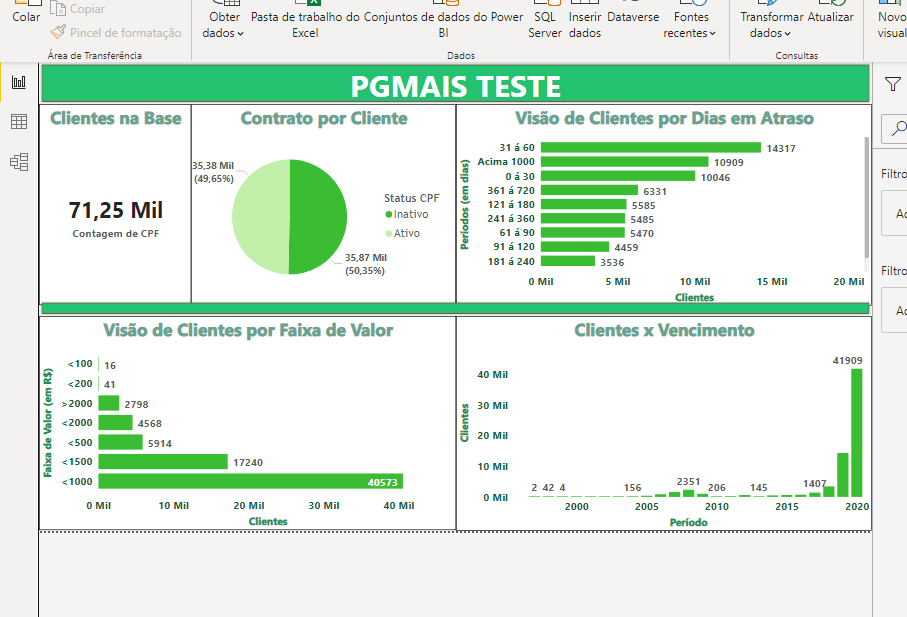

Layout of this report page (visuals, bound fields, positions):
{"tool":"powerbi","page":{"name":"Dash PGMAIS","canvas":[1280,720],"ordinal":0},"visuals":[{"type":"pieChart","title":"Contrato por Cliente","fields":{"Category":["VW_Cobranca.Status Cliente"],"Y":["VW_Cobranca.Contrato"]},"box":[233.8,65.1,406.9,309.3],"z":0},{"type":"clusteredColumnChart","title":"Clientes x Vencimento","fields":{"Category":["VW_Cobranca.Data de Vencimento.Variation.Hierarquia de datas.Ano","VW_Cobranca.Data de Vencimento.Variation.Hierarquia de datas.Trimestre","VW_Cobranca.Data de Vencimento.Variation.Hierarquia de datas.Mês","VW_Cobranca.Data de Vencimento.Variation.Hierarquia de datas.Dia"],"Y":["VW_Cobranca.CPF"]},"box":[640.7,390.7,639.3,330],"z":1000},{"type":"clusteredBarChart","title":"Visão de Clientes por Faixa de Valor","fields":{"Y":["SupVWFaixa.Faixa de Valores"],"Category":["SupVWFaixa.Faixa de Valor"]},"box":[0,390.7,640.7,328.5],"z":2000},{"type":"card","title":"Clientes na Base","fields":{"Values":["VW_Cobranca.CPF"]},"box":[0,65.1,233.8,309.3],"z":3000},{"type":"shape","box":[0,0,1280,64.5],"z":4000},{"type":"barChart","title":"Visão de Clientes por Dias em Atraso","fields":{"Category":["SupVwFaixaDias.Faixa de Faixa de Dias"],"Y":["SupVwFaixaDias.CALCULO DIAS"]},"box":[640.8,64.5,639.2,310.4],"z":5000},{"type":"shape","box":[0,365.5,1280,25.2],"z":6000}]}

Visuals, with their boxes on the page's 1280x720 design canvas (x1, y1, x2, y2). These are canvas units, not pixel positions in the 907x617 screenshot, which may show the page scaled, cropped or inside an application window:
"Contrato por Cliente" pieChart: x1=234, y1=65, x2=641, y2=374
"Clientes x Vencimento" clusteredColumnChart: x1=641, y1=391, x2=1280, y2=721
"Visão de Clientes por Faixa de Valor" clusteredBarChart: x1=0, y1=391, x2=641, y2=719
"Clientes na Base" card: x1=0, y1=65, x2=234, y2=374
shape: x1=0, y1=0, x2=1280, y2=64
"Visão de Clientes por Dias em Atraso" barChart: x1=641, y1=64, x2=1280, y2=375
shape: x1=0, y1=366, x2=1280, y2=391
